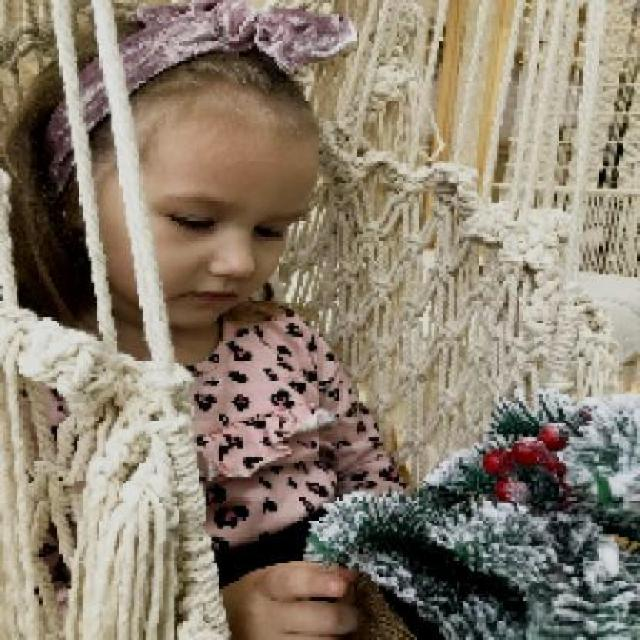child: (2, 5, 415, 638)
